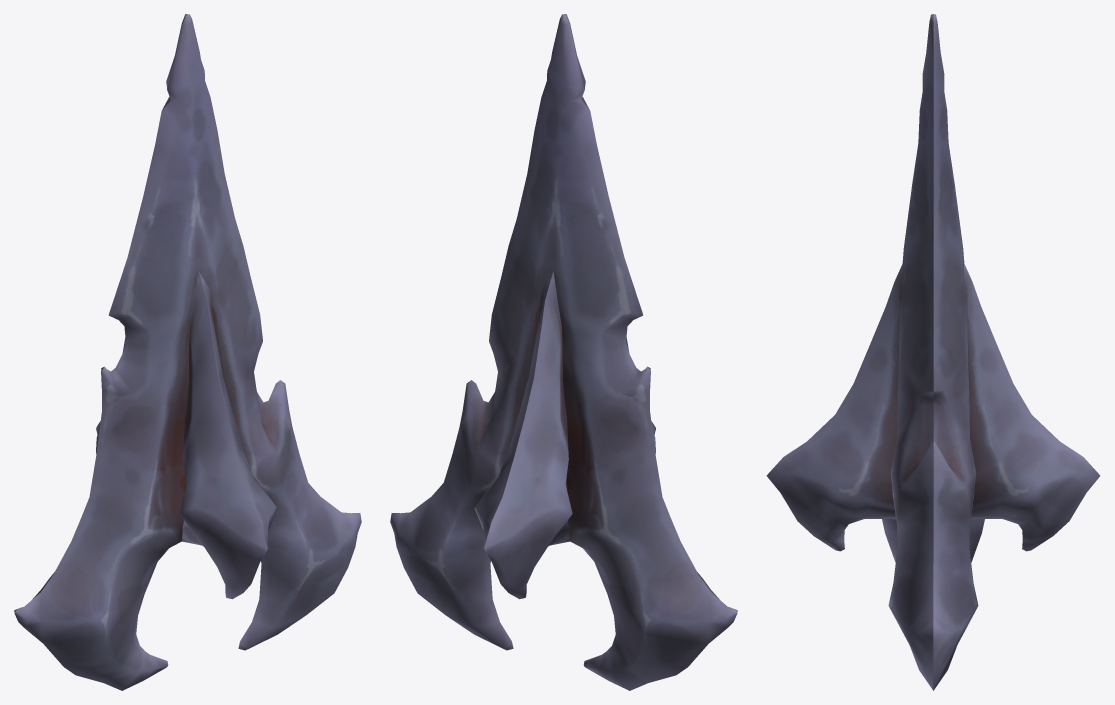
The model's file is Bullet.fbx.
3 renders of one model, left to right at view 1: azimuth 30°, elevation 25°; view 2: azimuth 150°, elevation 25°; view 3: azimuth 270°, elevation 25°, orthographic.
Parts seen in each view (by area): view 1: HavocForm_Missile.001; view 2: HavocForm_Missile.001; view 3: HavocForm_Missile.001.
Boxes of the visible parts, x1,y1,x2,y2 form: HavocForm_Missile.001: (14, 14, 361, 690); HavocForm_Missile.001: (390, 14, 737, 690); HavocForm_Missile.001: (766, 14, 1100, 690).
Bounding box in the file's own units: 289 × 526 × 245.
Materials: 1 (1 with a texture image).
